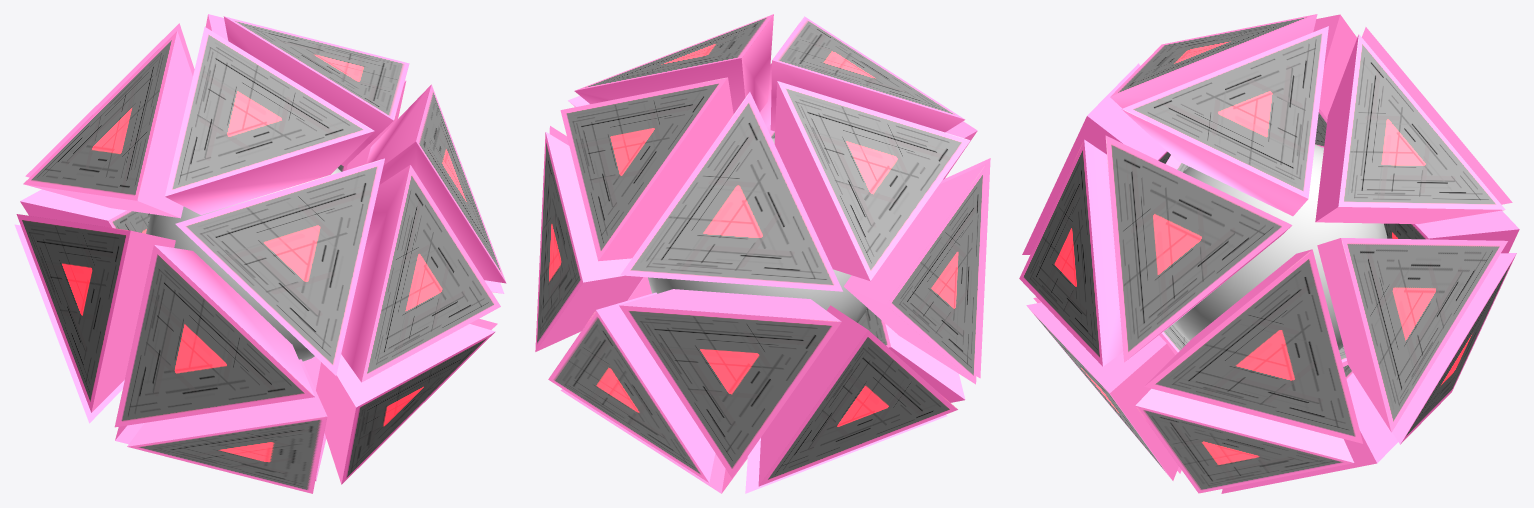
The model's file is d20_enemy.fbx.
3 views of the same model, side by side, from view 1: azimuth 30°, elevation 25°; view 2: azimuth 150°, elevation 25°; view 3: azimuth 270°, elevation 25° (orthographic). The views are drawn at different scales.
Visible parts, largest first — view 1: polySurface1, pSphere1; view 2: polySurface1, pSphere1; view 3: polySurface1, pSphere1.
Part boxes in pixels (left/top/right/bottom): polySurface1: left=14, top=14, right=506, bottom=493; pSphere1: left=146, top=168, right=341, bottom=361; polySurface1: left=535, top=14, right=990, bottom=493; pSphere1: left=648, top=138, right=867, bottom=322; polySurface1: left=1019, top=14, right=1519, bottom=493; pSphere1: left=1173, top=144, right=1387, bottom=349.
Size of the model in its own units: 7.88 by 8.65 by 8.76.
